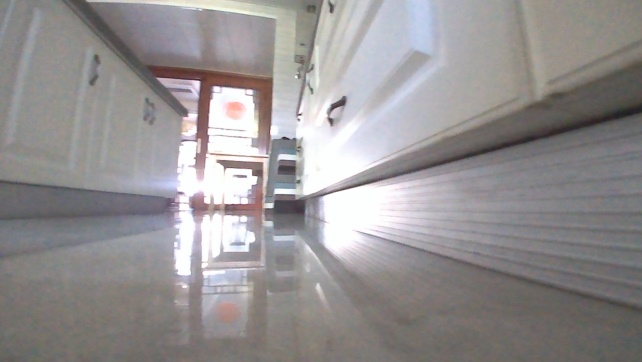cupboard: (292, 0, 641, 313), (0, 0, 190, 218)
